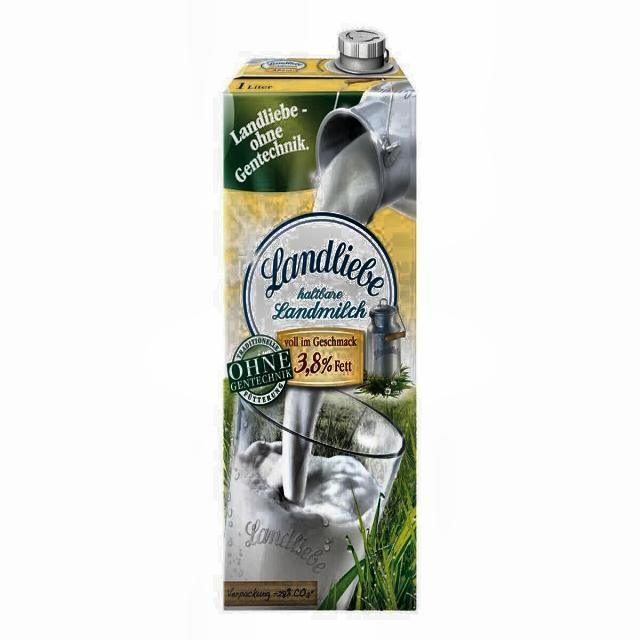cardboard: (222, 39, 416, 610)
